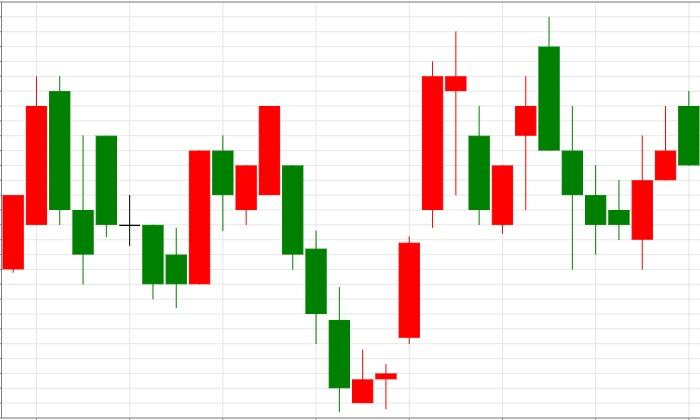three_black_crows_fall: (491, 17, 606, 270)
three_white_soldiers_rise: (259, 60, 443, 413)
